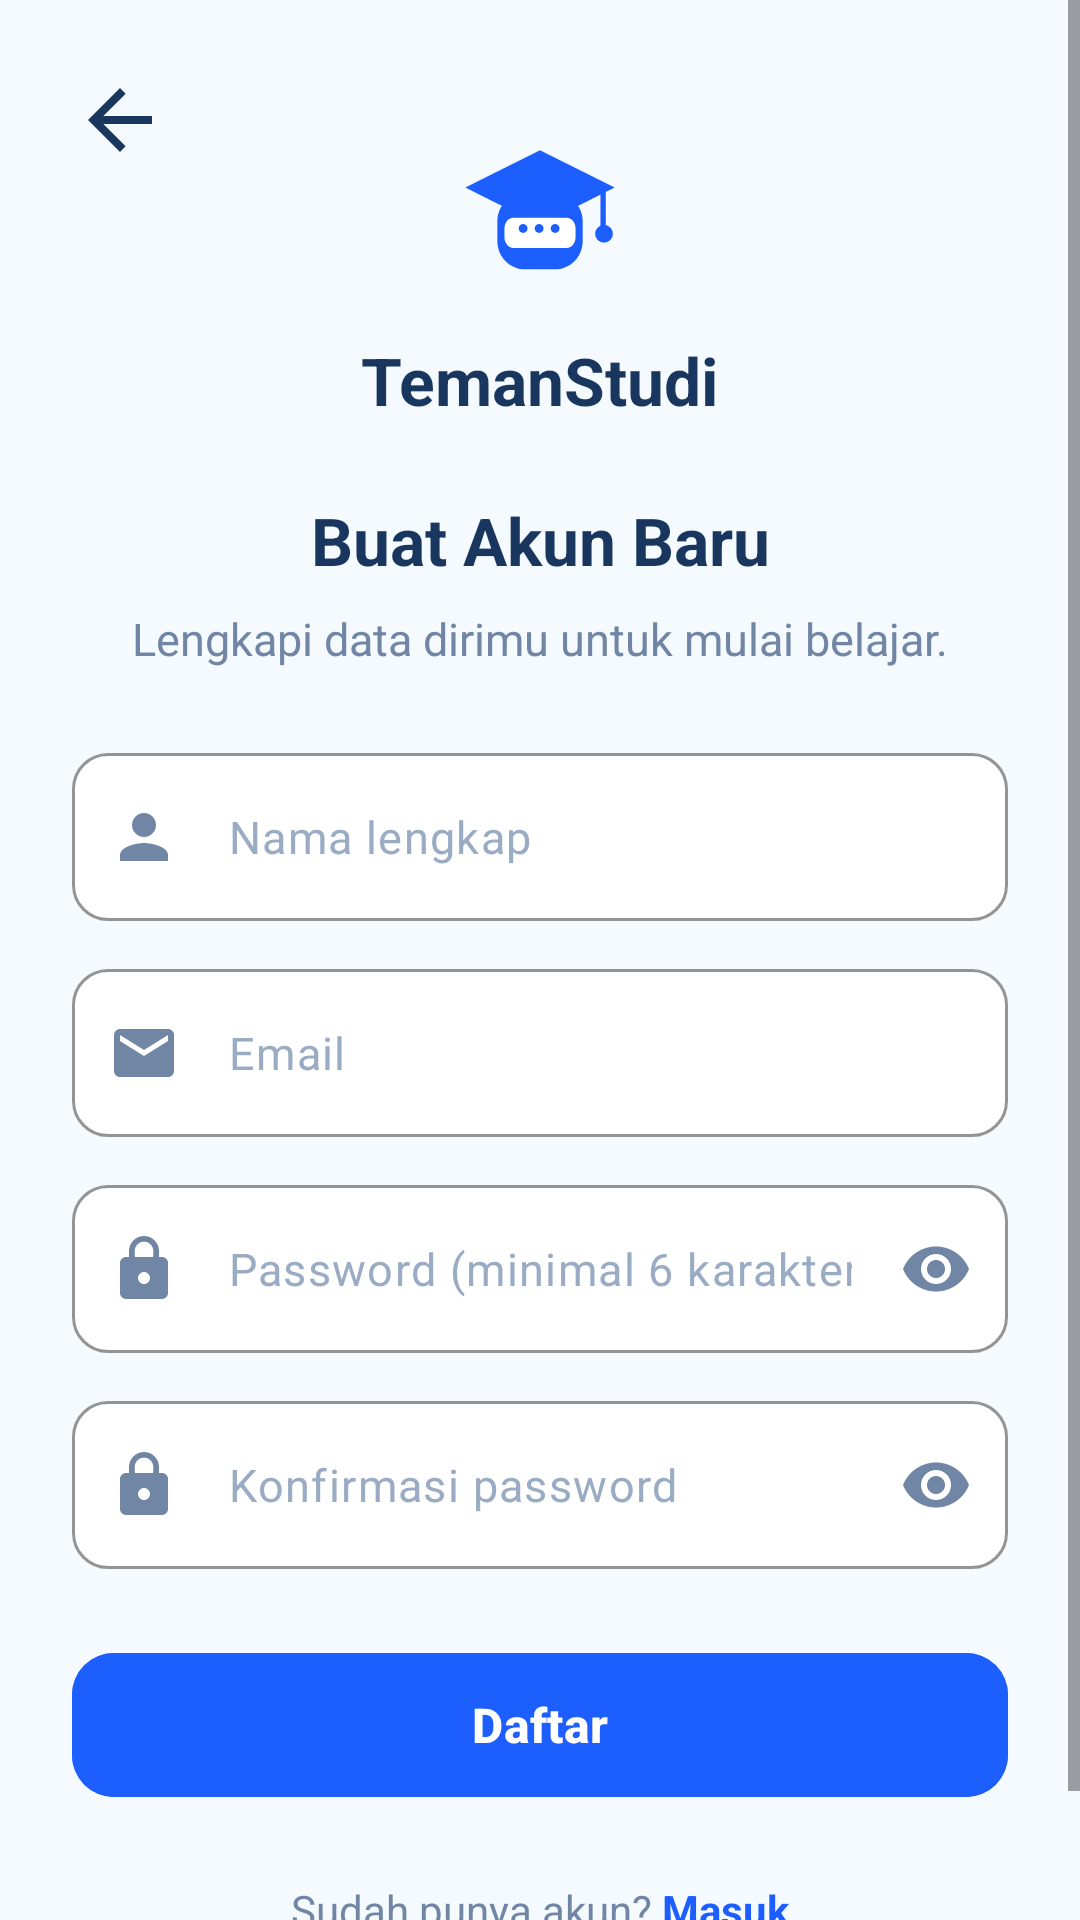

Named icons in this screenshot (1080 × 1920) and their centers, point (x, y):
Kembali: point (120, 120)
